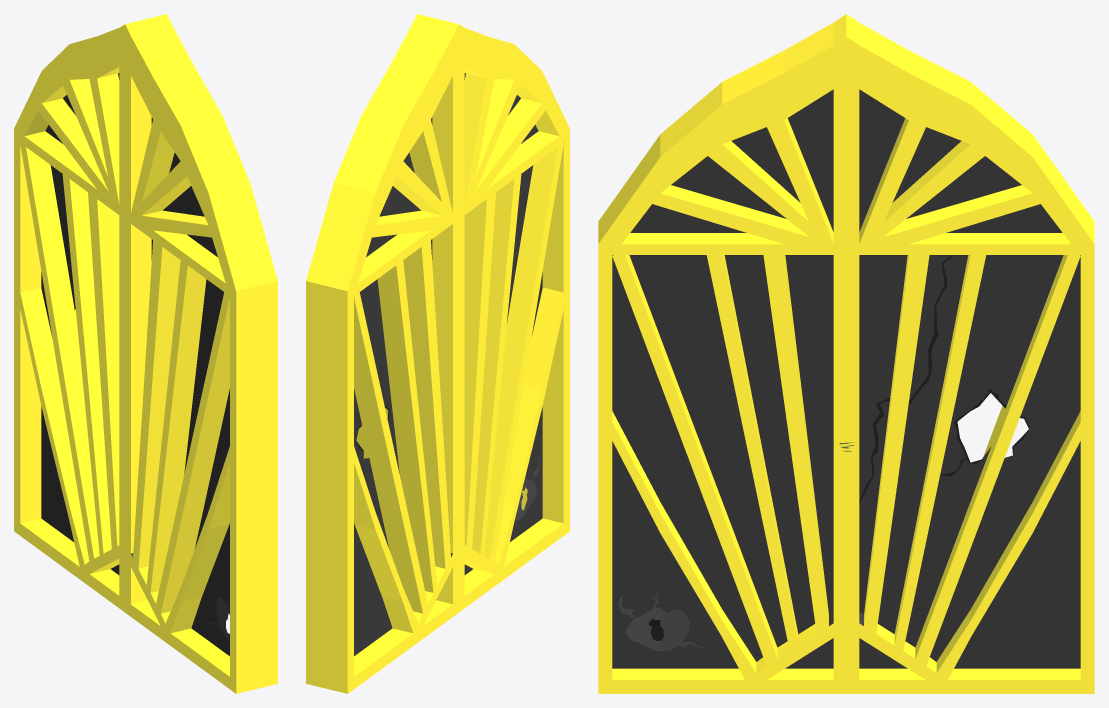
File: DoorDefinitive.fbx
The picture shows the model from 3 angles, left to right: view 1: azimuth 30°, elevation 25°; view 2: azimuth 150°, elevation 25°; view 3: azimuth 270°, elevation 25°; orthographic projection. The views are drawn at different scales.
Parts seen in each view (by area): view 1: Plane; view 2: Plane; view 3: Plane.
Boxes of the visible parts, x1,y1,x2,y2 form: Plane: (14,14,277,693); Plane: (306,14,569,693); Plane: (598,14,1094,693).
Bounding box in the file's own units: 21.69 × 292 × 200.
